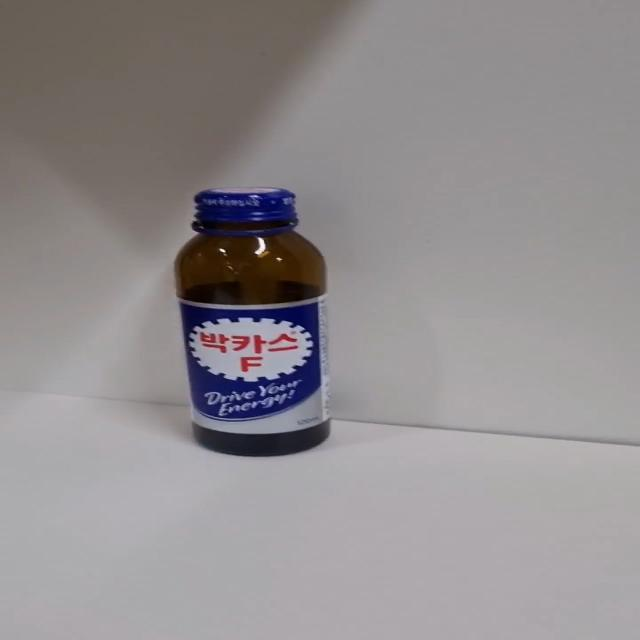Glass: (172, 188, 331, 458)
